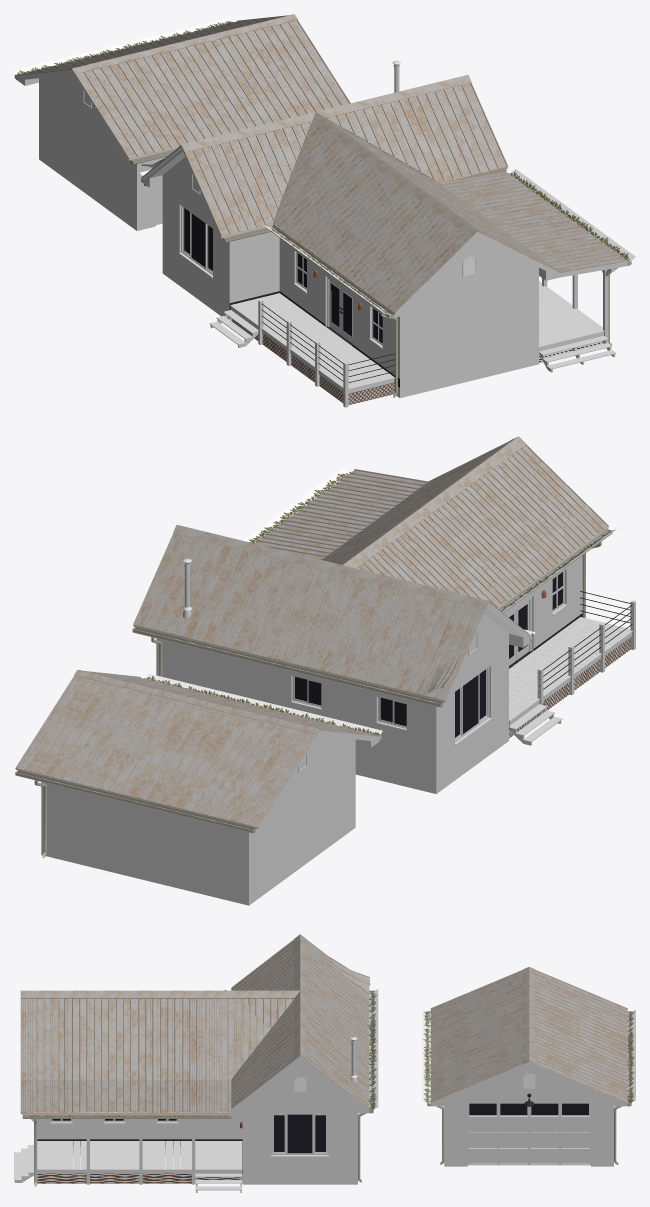
The model's file is StructuresFinal_GabrielJimenez.fbx.
3 renders of one model, top to bottom at view 1: azimuth 30°, elevation 25°; view 2: azimuth 150°, elevation 25°; view 3: azimuth 270°, elevation 25°, orthographic. The views are drawn at different scales.
Parts seen in each view (by area): view 1: House, Metal Roof Garage.001, Metal Roof.001, Metal Roof.004, Metal Roof.003, Garage, Back Deck Top, Metal Top, Front Deck Top, Metal Roof Garage, Metal Top.001, Window.001 (+15 smaller); view 2: Metal Roof.002, Metal Roof Garage, Garage, House, Metal Roof.001, Metal Roof.003, Metal Top, Back Deck Top, Metal Roof Damaged, Side Gutter, Metal Roof Garage.001, Window.001 (+10 smaller); view 3: Metal Roof.003, House, Metal Roof Garage, Metal Roof Garage.001, Garage Door, Metal Roof.002, Garage, Front Deck Top, Metal Roof.004, Metal Top, Window, Lattice Front (+16 smaller).
Part boxes in pixels (x1,y1,x2,y2): House: (162, 157, 538, 397); Metal Roof Garage.001: (72, 20, 350, 158); Metal Roof.001: (273, 122, 477, 312); Metal Roof.004: (181, 82, 507, 235); Metal Roof.003: (334, 123, 627, 272); Garage: (39, 74, 166, 230); Back Deck Top: (230, 293, 394, 389); Metal Top: (178, 74, 484, 237); Front Deck Top: (539, 281, 604, 347); Metal Roof Garage: (15, 15, 287, 75); Metal Top.001: (69, 14, 298, 74); Window.001: (178, 206, 212, 278); Metal Roof.002: (133, 533, 488, 700); Metal Roof Garage: (16, 675, 319, 827); Garage: (41, 735, 355, 905); House: (156, 555, 582, 793); Metal Roof.001: (357, 444, 608, 607); Metal Roof.003: (254, 441, 508, 564); Metal Top: (173, 436, 525, 608); Back Deck Top: (509, 617, 632, 721); Metal Roof Damaged: (409, 600, 488, 694); Side Gutter: (132, 627, 443, 707); Metal Roof Garage.001: (85, 671, 381, 736); Window.001: (455, 667, 491, 745); Metal Roof.003: (20, 998, 293, 1112); House: (37, 1060, 357, 1184); Metal Roof Garage: (529, 969, 627, 1102); Metal Roof Garage.001: (430, 970, 529, 1102); Garage Door: (467, 1103, 590, 1165); Metal Roof.002: (300, 939, 369, 1108); Garage: (444, 1065, 613, 1166); Front Deck Top: (37, 1141, 242, 1170); Metal Roof.004: (231, 939, 299, 1108); Metal Top: (20, 934, 306, 1059); Window: (271, 1114, 328, 1156); Lattice Front: (37, 1173, 242, 1183).
Bounding box in the file's own units: 1298 × 652 × 2702.
Materials: 16 (7 with a texture image).
